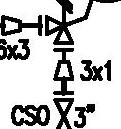psv: (44, 1, 75, 52)
